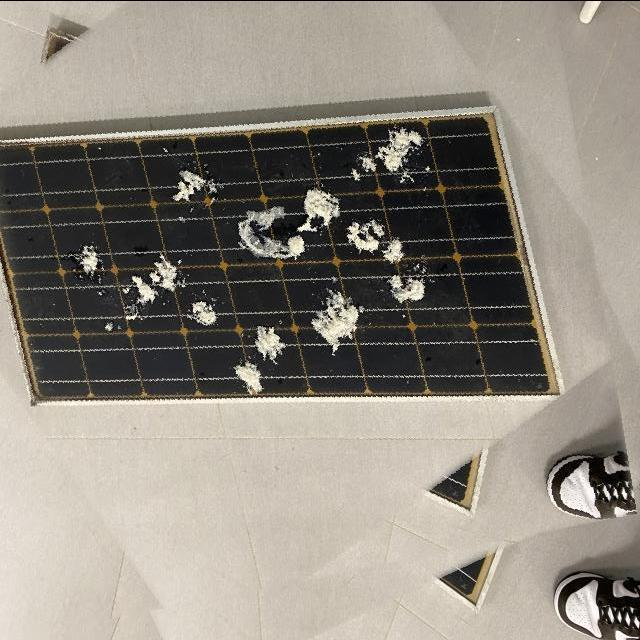Bird-drop: (232, 181, 342, 260), (102, 249, 182, 334), (353, 124, 430, 193), (311, 285, 368, 349), (168, 164, 218, 223), (346, 214, 404, 262), (388, 260, 432, 306), (254, 325, 288, 359), (77, 242, 103, 279), (236, 358, 261, 394), (192, 298, 217, 326)
